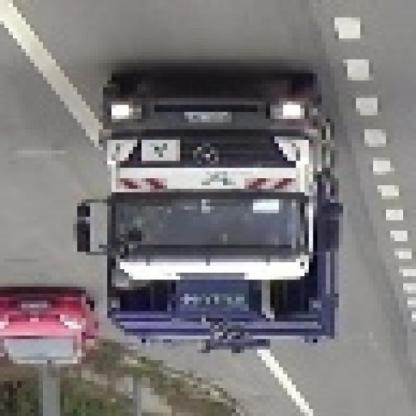truck: (78, 75, 348, 351)
